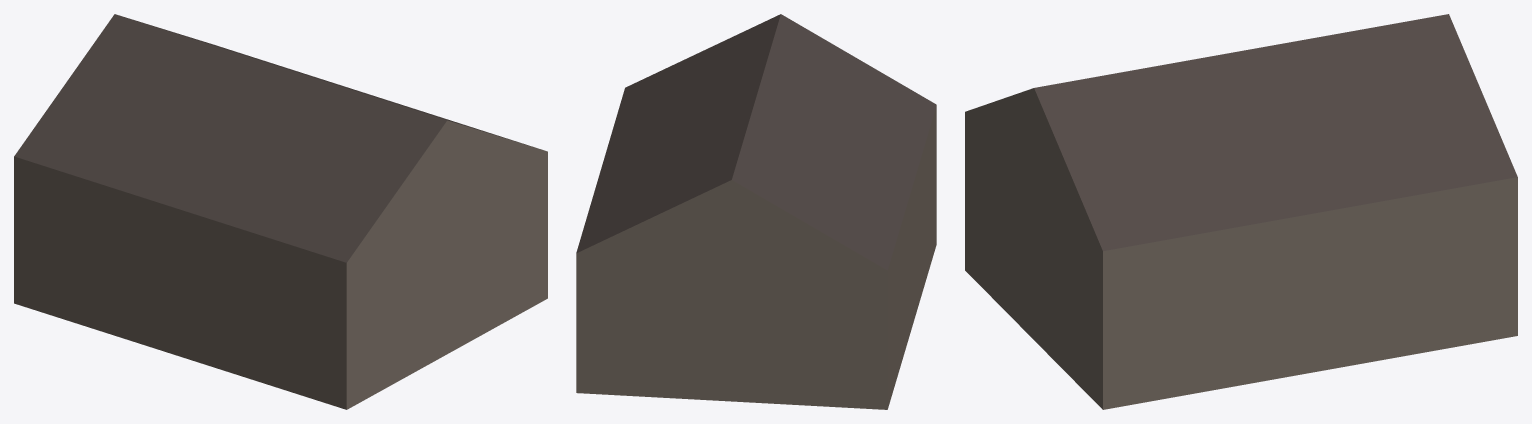
3 views of the same model, side by side, from view 1: azimuth 30°, elevation 25°; view 2: azimuth 150°, elevation 25°; view 3: azimuth 270°, elevation 25° (orthographic). The views are drawn at different scales.
Visible parts, largest first — view 1: HP-w373833536; view 2: HP-w373833536; view 3: HP-w373833536.
Boxes of the visible parts, x1,y1,x2,y2 form: HP-w373833536: (14, 14, 547, 409); HP-w373833536: (576, 14, 936, 409); HP-w373833536: (965, 14, 1517, 409).
Bounding box in the file's own units: 17.3 × 9.54 × 18.94.
